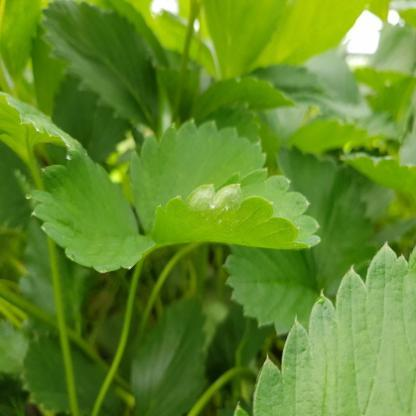Strawberry_Powdery_Mildew_Leaf: (148, 166, 324, 250)
